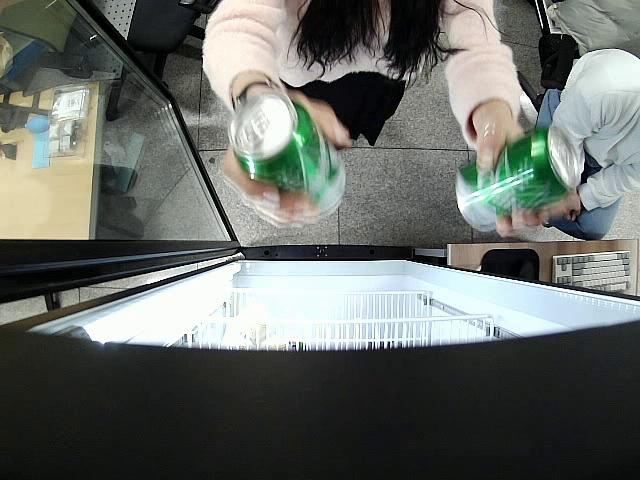00_hand: (219, 87, 352, 227), (472, 105, 571, 239)
12_chilsungCider: (230, 92, 346, 223), (455, 124, 582, 232)
